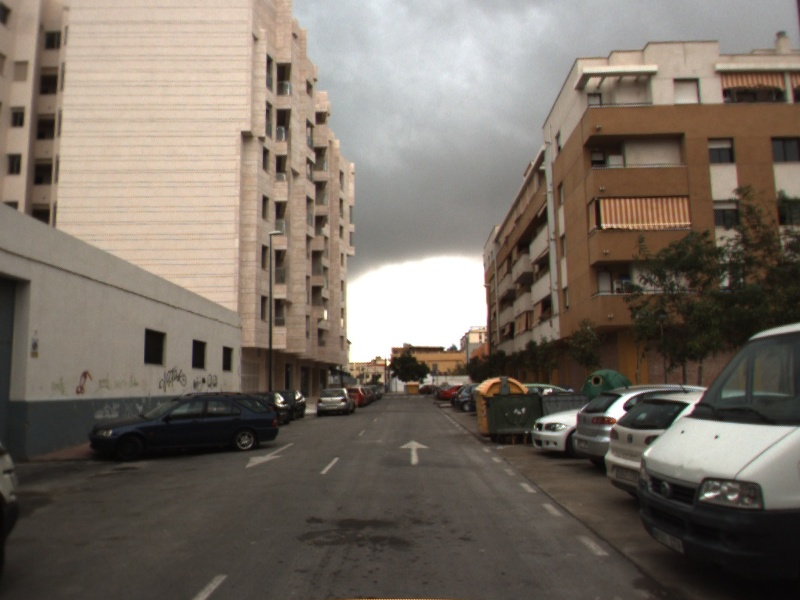STRAIGHT: (397, 438, 434, 466)
